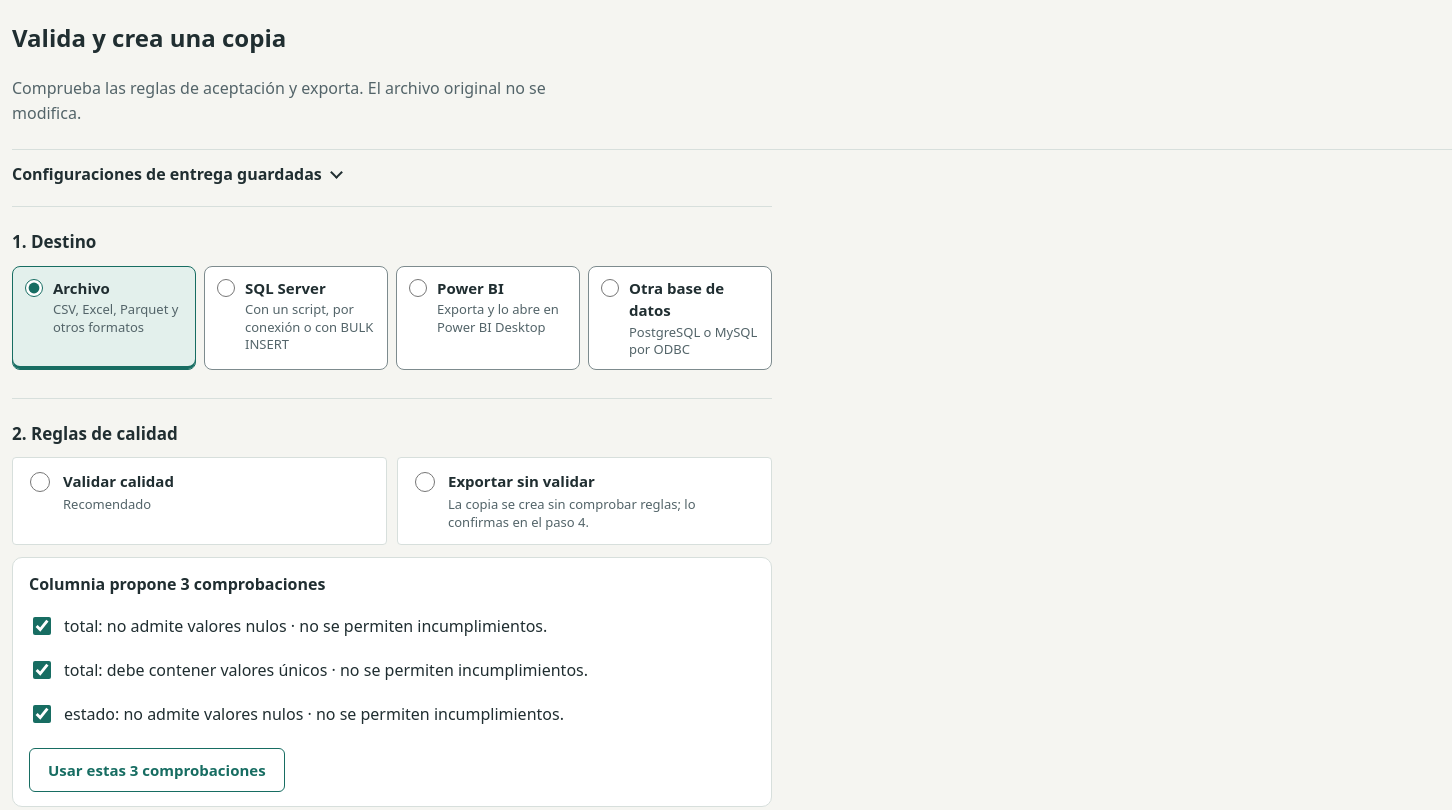
Test: comprobaciones propuestas en Entregar › con un contrato incompleto añade solo las sugeridas que faltan (UX-21)
Click the checkbox labelled "estado": (42, 714) [33,705,51,723]
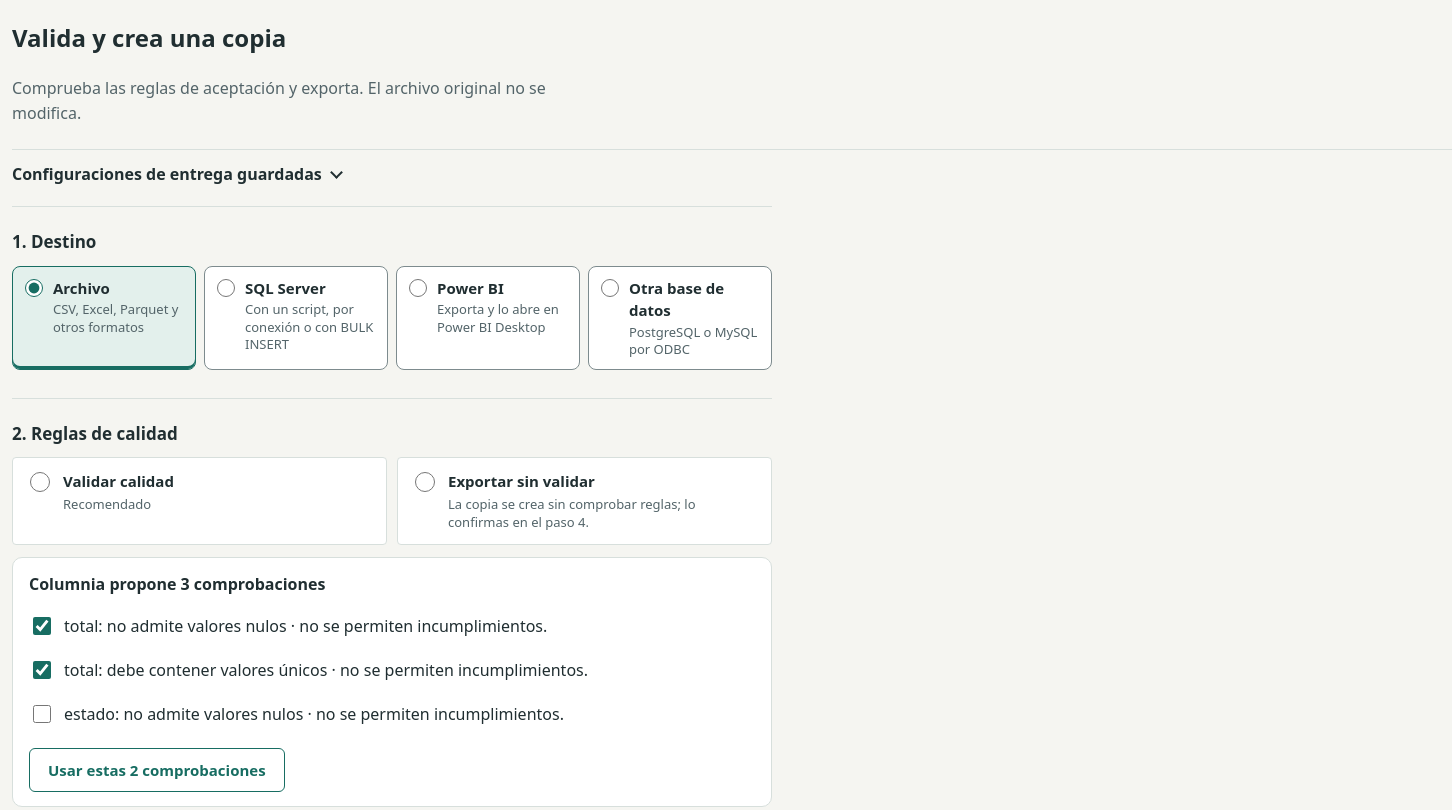
Click the 2nd checkbox: (42, 670) [33,661,51,679]
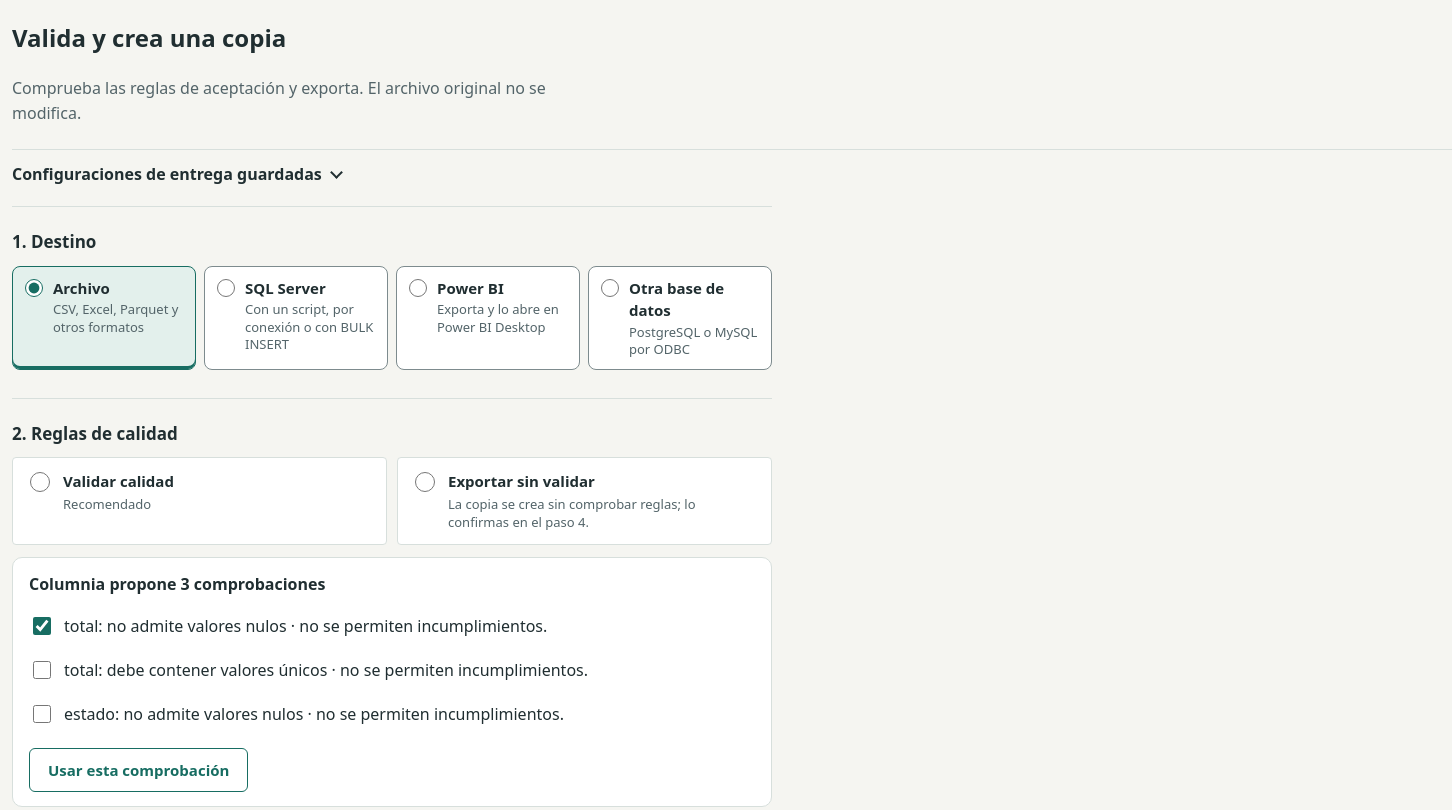
Click the button "Usar esta comprobación": (139, 770) [29,748,248,792]
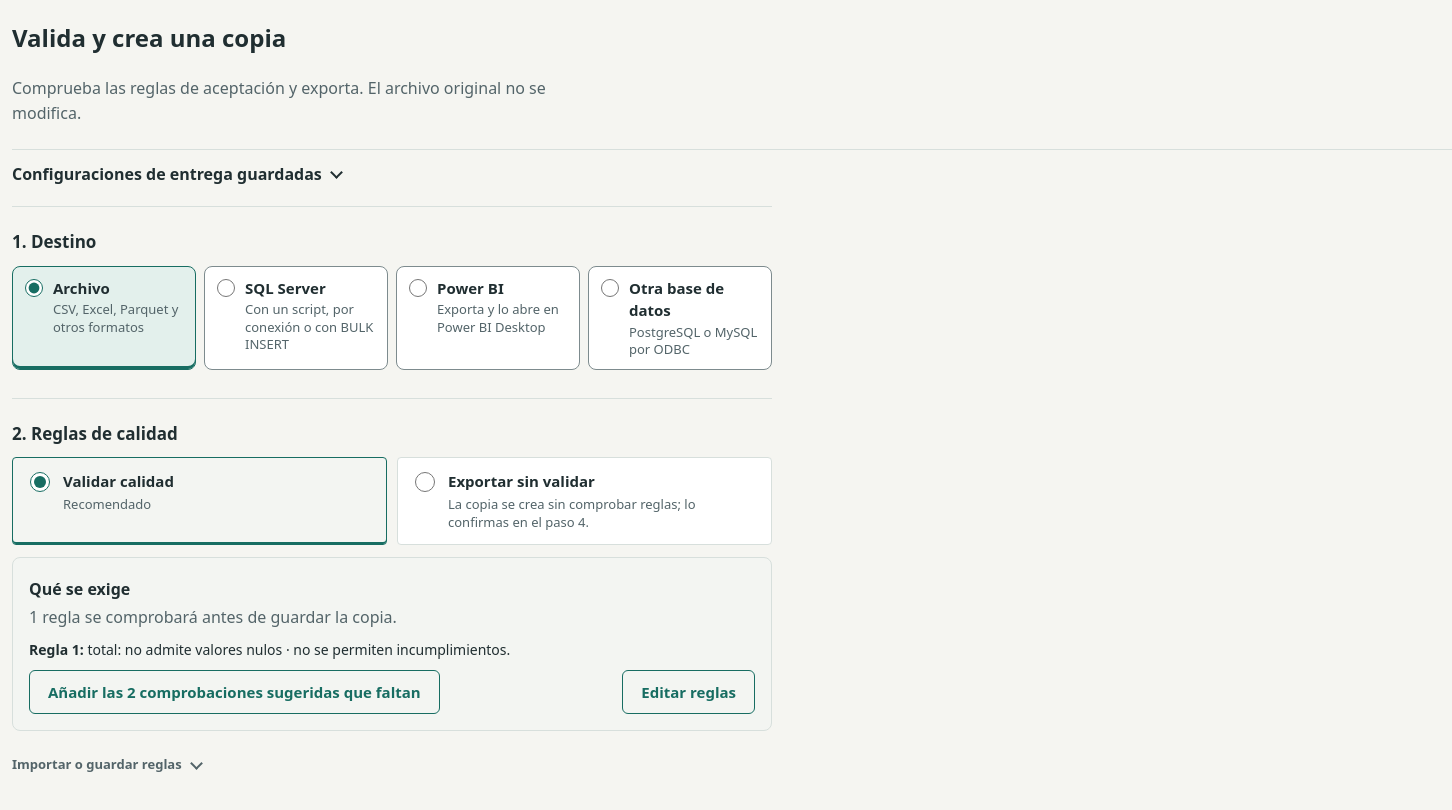
expect the text "1 regla se comprobará antes de guardar la copia." is shown: met, box [29,606,397,628]
Click the button "Añadir las 2 comprobaciones sugeridas que faltan": (234, 692) [29,670,440,714]
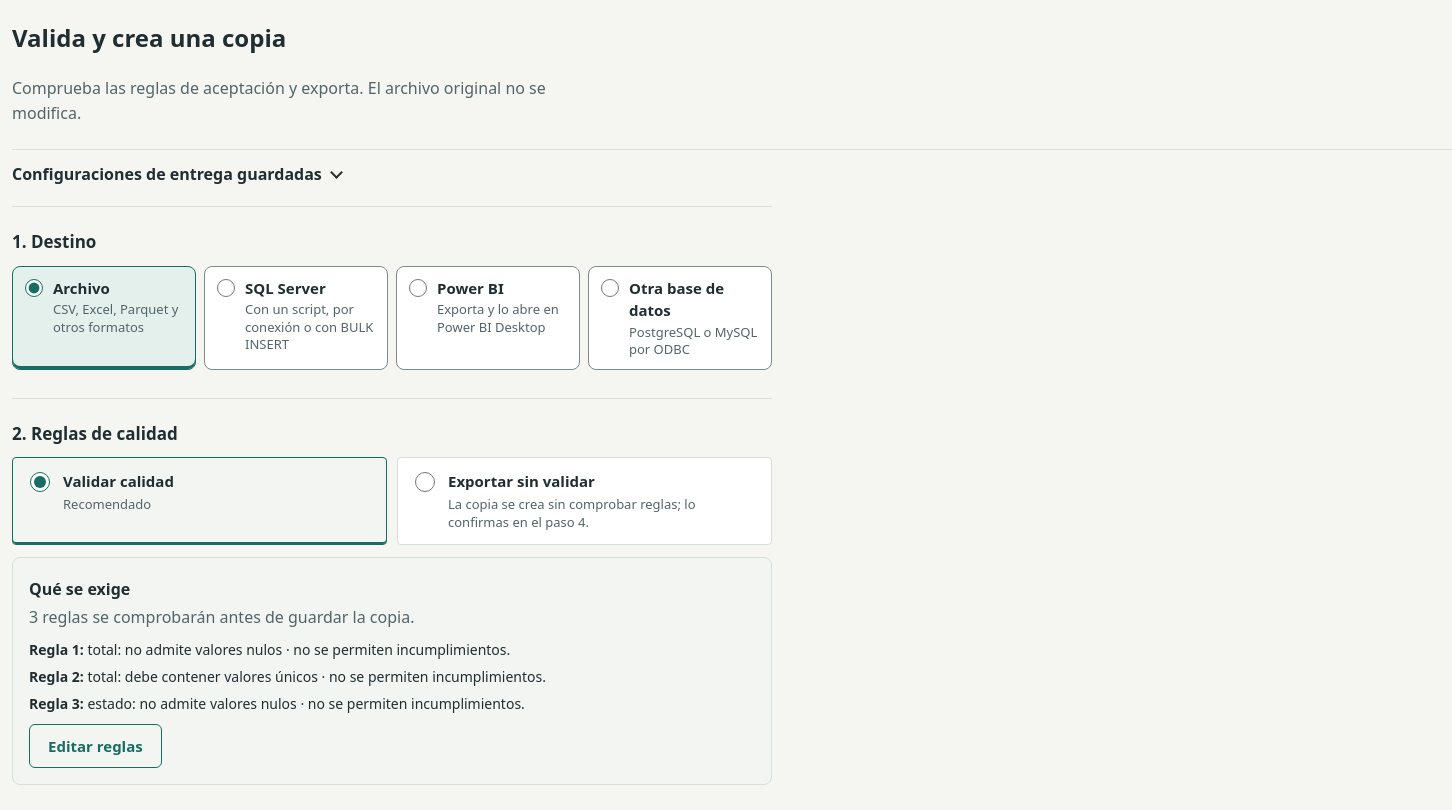
expect the text "3 reglas se comprobarán antes de guardar la copia." is shown: met, box [29,606,414,628]
expect the button "Añadir las 2 comprobaciones sugeridas que faltan" is gone: met
